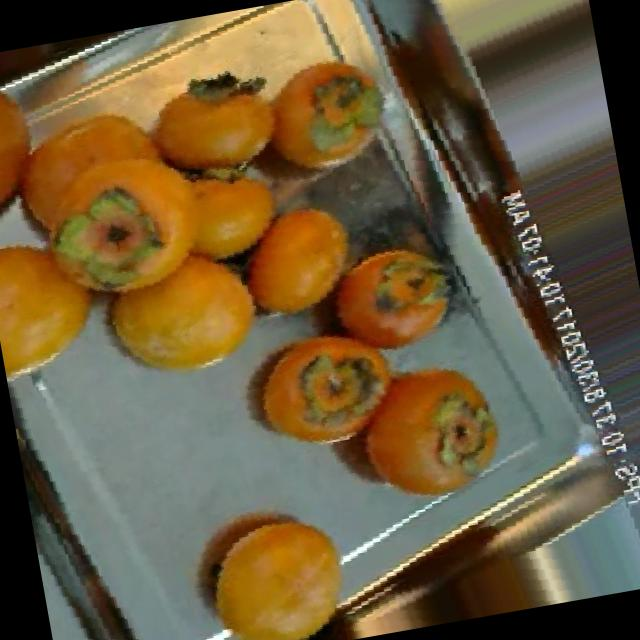Fruit: (54, 220, 290, 414), (206, 298, 430, 492), (149, 472, 385, 640), (284, 215, 492, 387), (205, 182, 388, 350), (0, 212, 130, 395)
